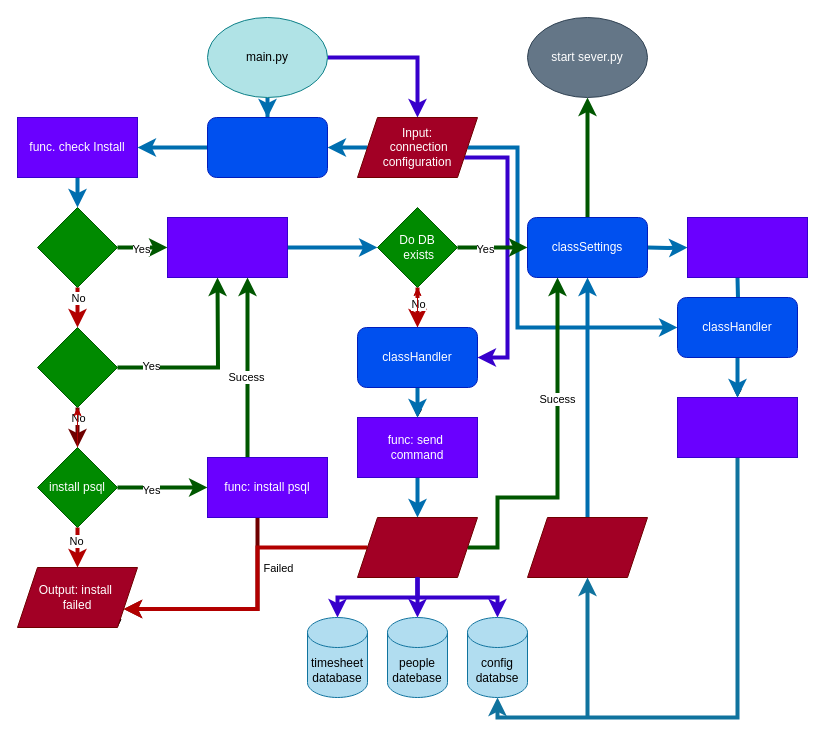
This 825x745 diagram has some shape labels left out. The shapes that lost their labels are listed below. From the top down, each one's box as (x1, y1, x2, y2) in pixels, then its label:
(206, 116, 328, 178): classInstall.py
(36, 206, 118, 288): connect to DB
(166, 216, 288, 278): func: Create DB
(686, 216, 808, 278): func: assign settings
(36, 326, 118, 408): psql in Path
(676, 396, 798, 458): func: send query
(356, 516, 478, 578): create Database
(526, 516, 648, 578): Output: Config settings
